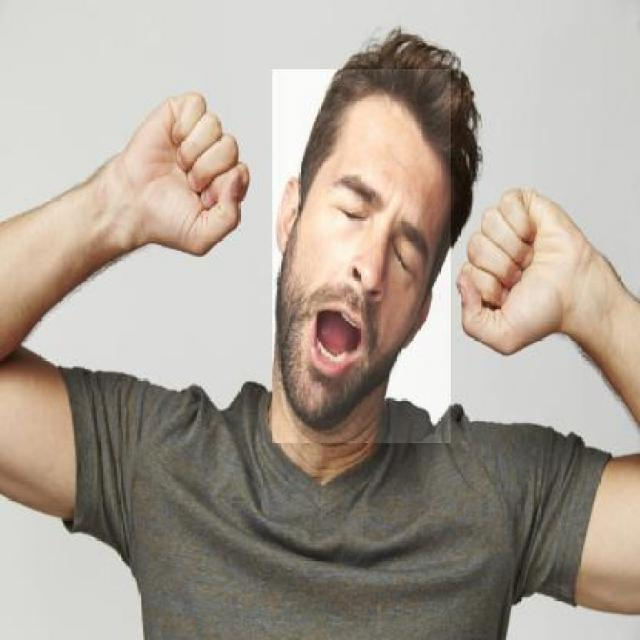Yawn: (276, 100, 448, 436)
